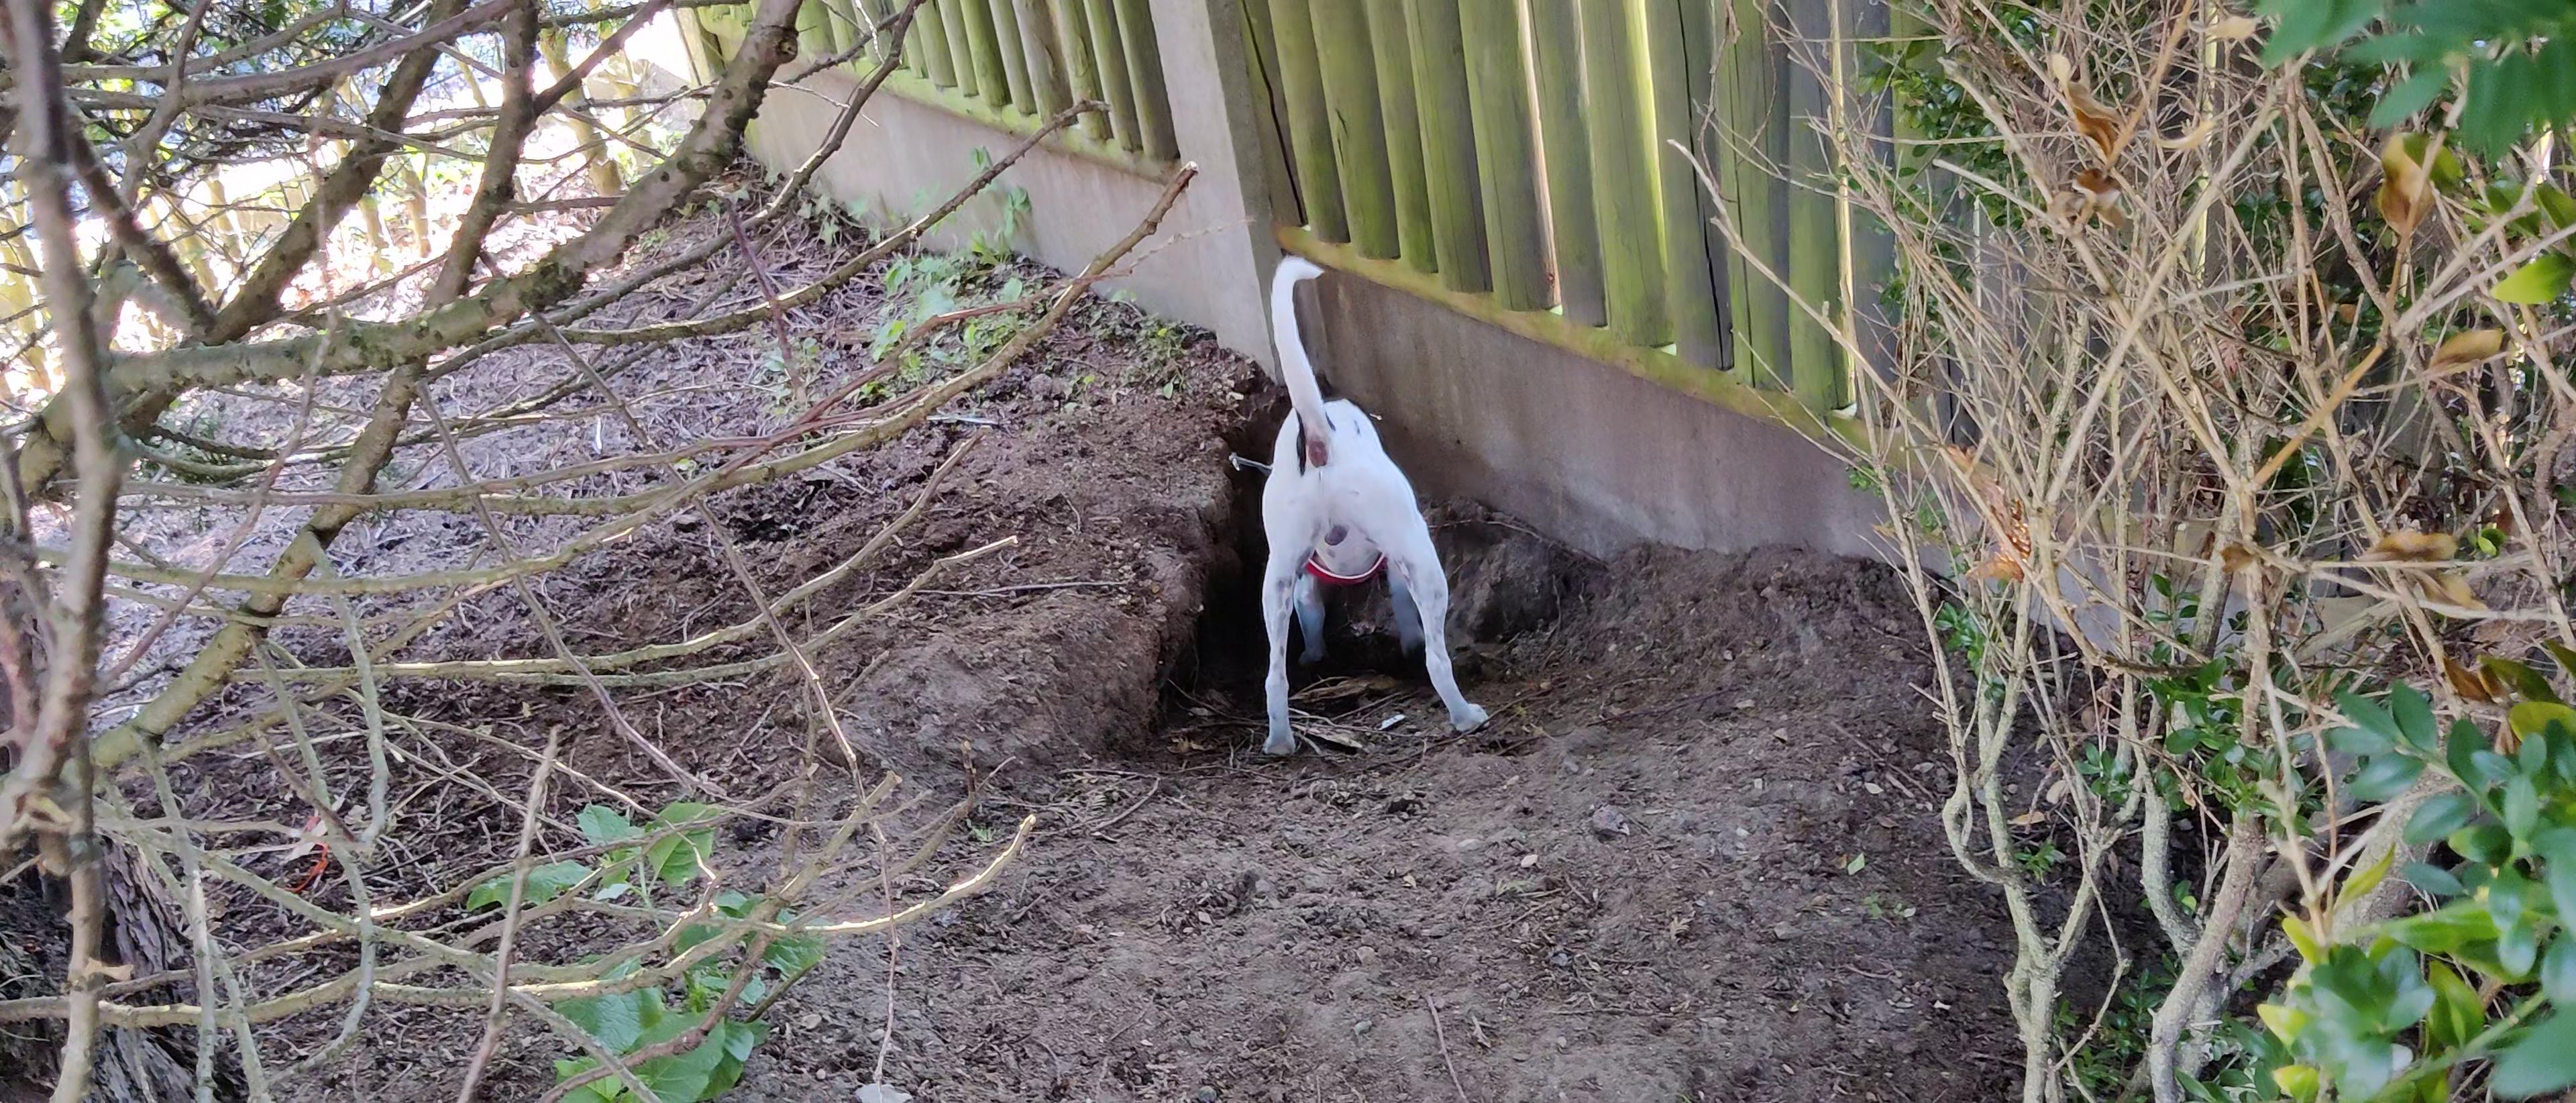Dog: (1196, 240, 1505, 768)
